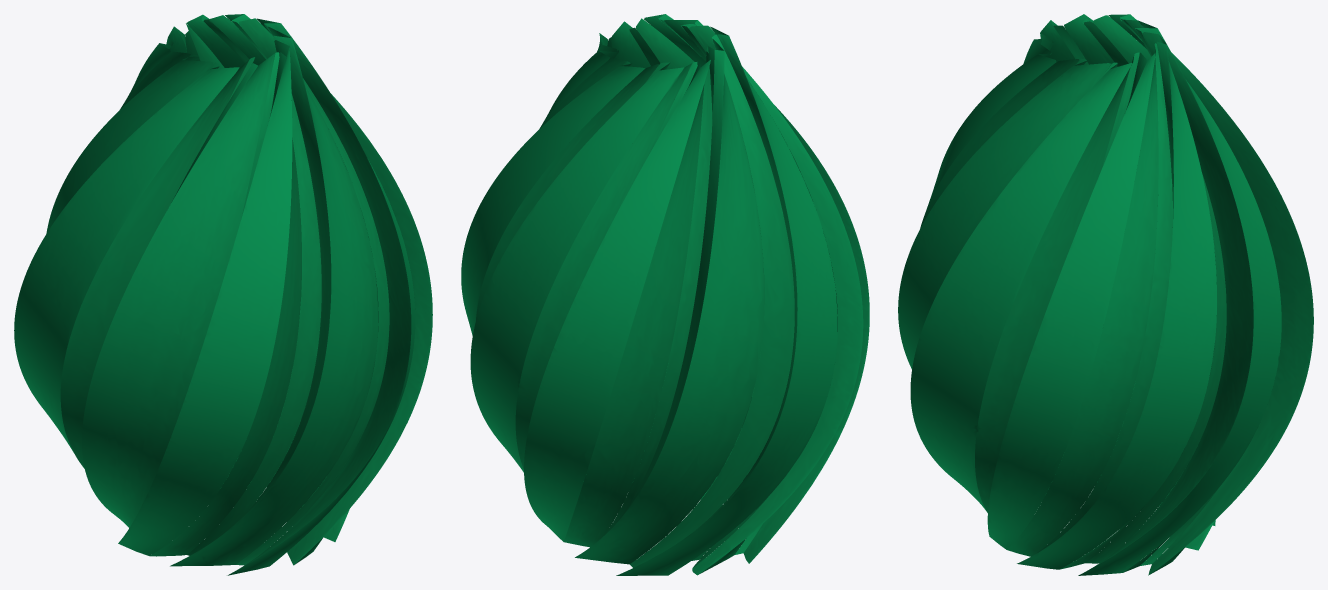
The model's file is blade-solo-00924f.glb.
3 views of the same model, side by side, from view 1: azimuth 30°, elevation 25°; view 2: azimuth 150°, elevation 25°; view 3: azimuth 270°, elevation 25° (orthographic).
Parts seen in each view (by area): view 1: Blade; view 2: Blade; view 3: Blade.
Part boxes in pixels (<box>): Blade: <box>14,14,432,575</box>; Blade: <box>461,14,869,575</box>; Blade: <box>898,14,1313,575</box>.
Bounding box in the file's own units: 0.2775 × 0.37 × 0.2841.
